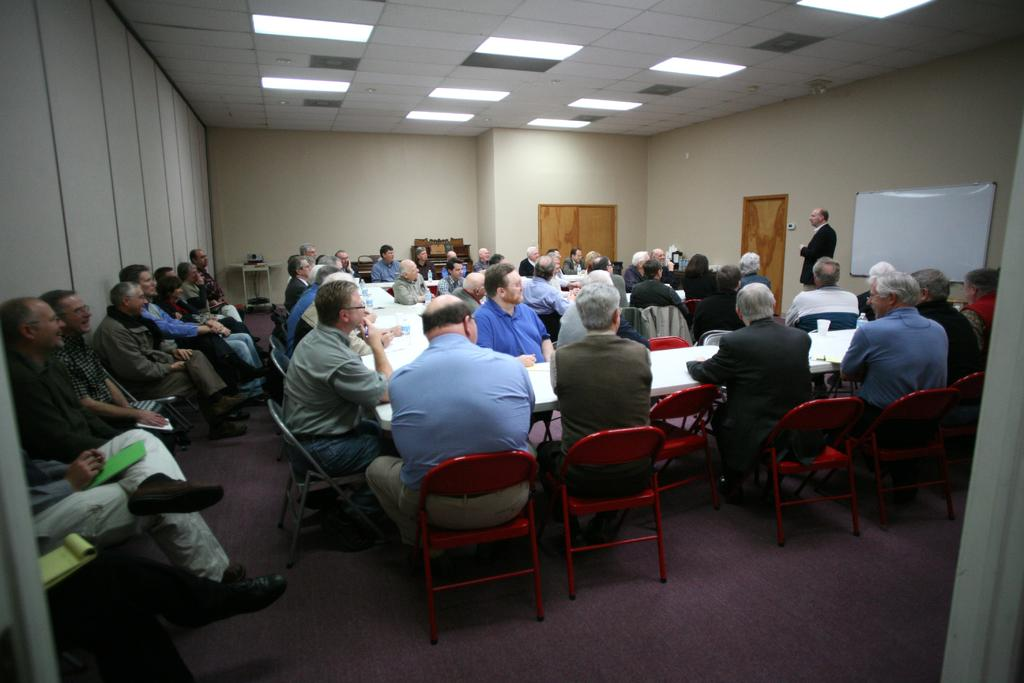Chair: (416, 449, 544, 644), (549, 424, 668, 600), (266, 397, 386, 567), (757, 396, 865, 546), (644, 383, 720, 522)
